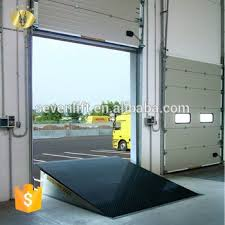Yard Ramp: (36, 155, 206, 219)
